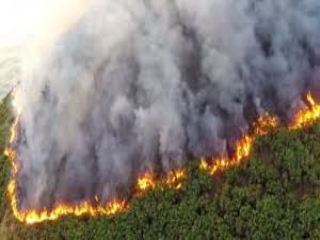fire: (198, 108, 317, 172), (9, 193, 132, 222), (137, 160, 187, 189), (4, 105, 20, 192)
smoke: (21, 15, 315, 175)
